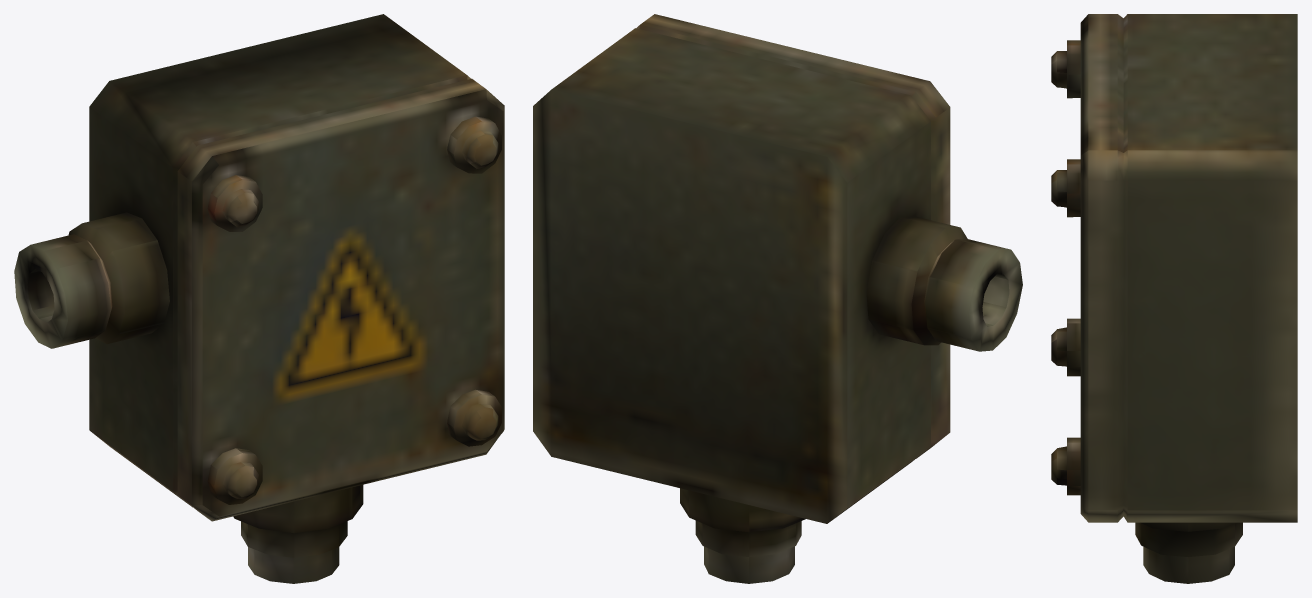
The model's file is electrical_junction_box.fbx.
3 renders of one model, left to right at view 1: azimuth 30°, elevation 25°; view 2: azimuth 150°, elevation 25°; view 3: azimuth 270°, elevation 25°, orthographic.
Parts seen in each view (by area): view 1: electrical_junction_box; view 2: electrical_junction_box; view 3: electrical_junction_box.
Boxes of the visible parts, box(x1,y1,x2,y2) form: electrical_junction_box: box(14, 14, 504, 583); electrical_junction_box: box(533, 14, 1022, 583); electrical_junction_box: box(1051, 14, 1297, 583).
Bounding box in the file's own units: 52.01 × 57.69 × 26.53.
1 material, 1 textured.
